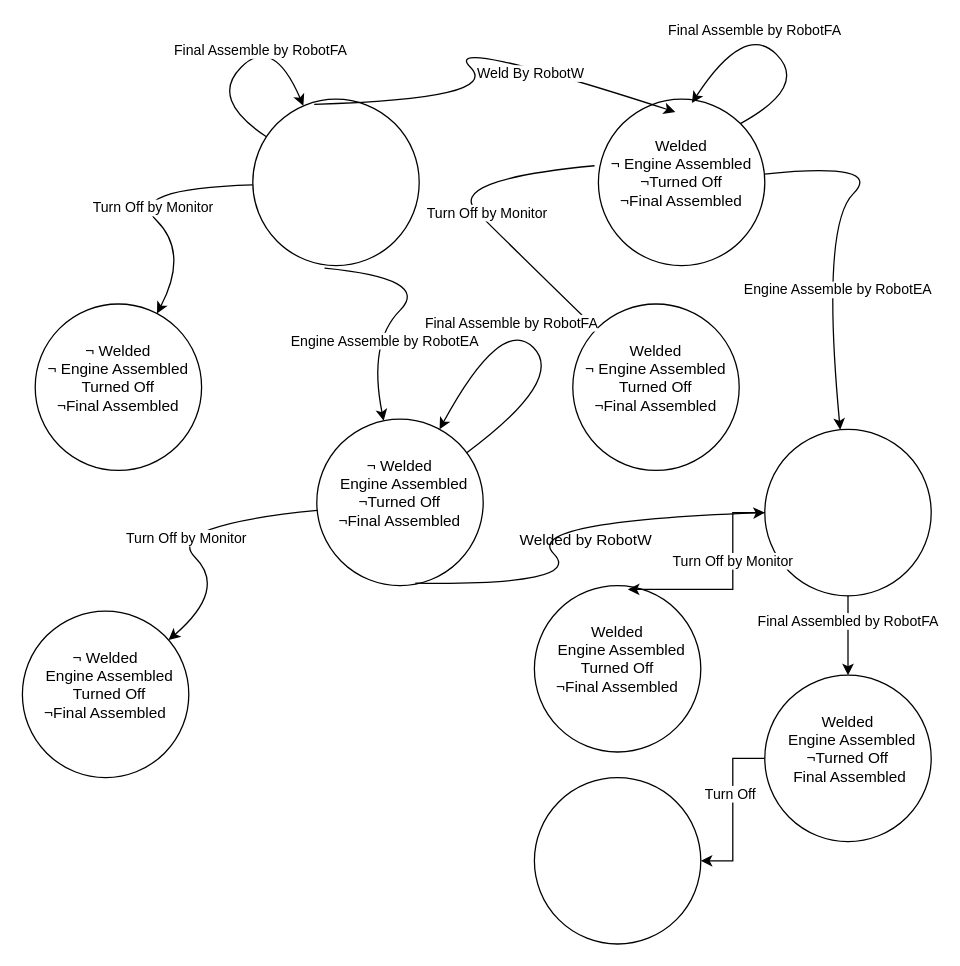
This 960x966 diagram has some shape labels left out. The centre of each missing label's shape, as x and y in pixels:
"Welded Engine Assembled Turned Off Final Assembled" goes at [617,860].
"Welded Engine Assembled ¬Turned Off ¬Final Assembled" goes at [847,512].
"¬ Welded ¬ Engine Assembled ¬Turned Off ¬Final Assembled" goes at [335,182].
